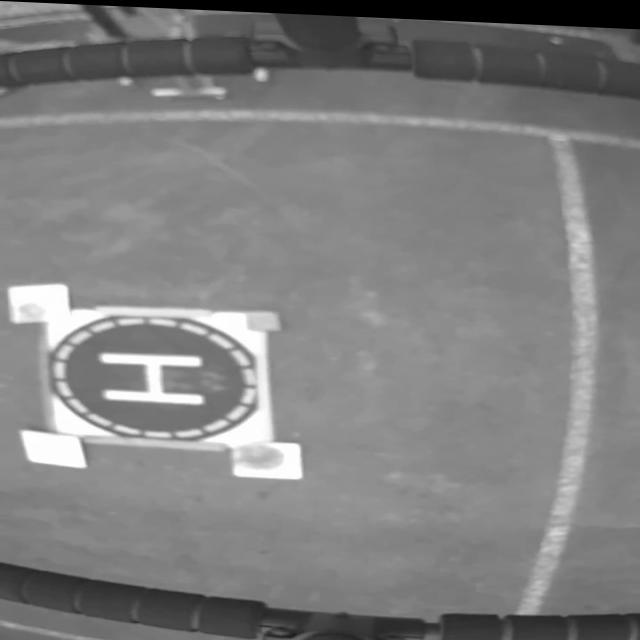Helipad: (100, 350, 204, 404)
